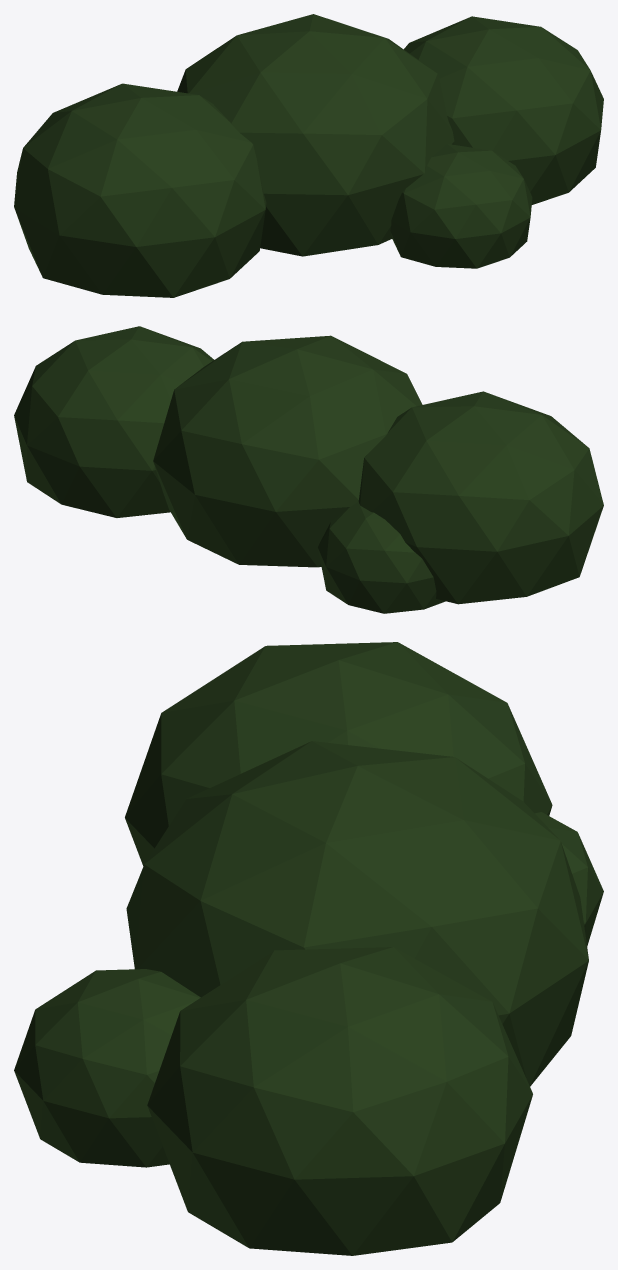
Rendered from bush_wee.fbx.
3 renders of one model, top to bottom at view 1: azimuth 30°, elevation 25°; view 2: azimuth 150°, elevation 25°; view 3: azimuth 270°, elevation 25°, orthographic. The views are drawn at different scales.
Visible parts, largest first — view 1: wee_bush; view 2: wee_bush; view 3: wee_bush.
Part boxes in pixels (left/top/right/bottom): wee_bush: left=14, top=14, right=603, bottom=297; wee_bush: left=14, top=326, right=603, bottom=613; wee_bush: left=14, top=642, right=603, bottom=1255.
Bounding box in the file's own units: 14.06 × 4.31 × 7.89.
